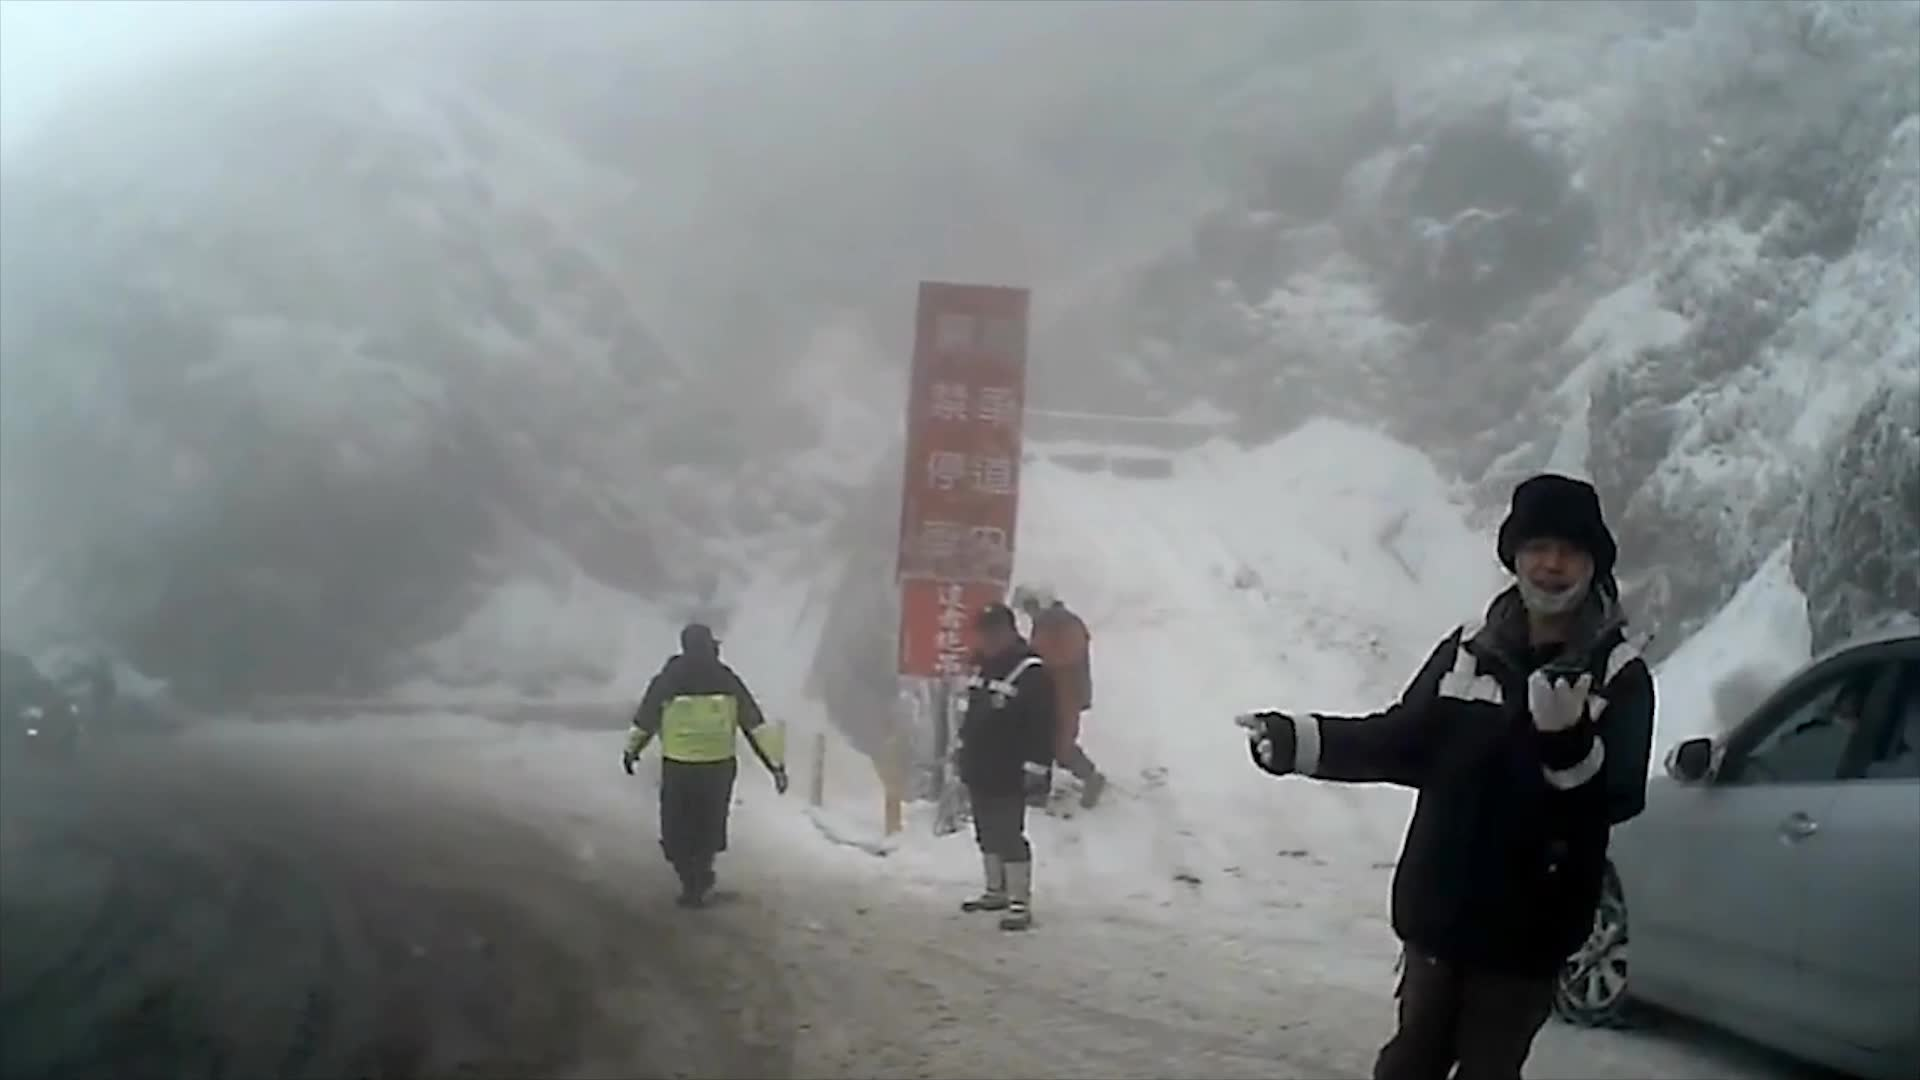pedestrian: (1228, 475, 1653, 1078), (623, 632, 782, 906), (956, 604, 1064, 931), (1015, 575, 1109, 814)
vehicle: (1505, 631, 1919, 1079)
